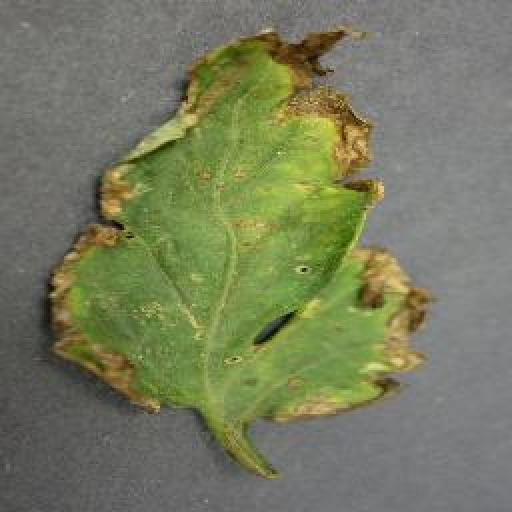Bacterial Spot: (46, 21, 446, 432)
